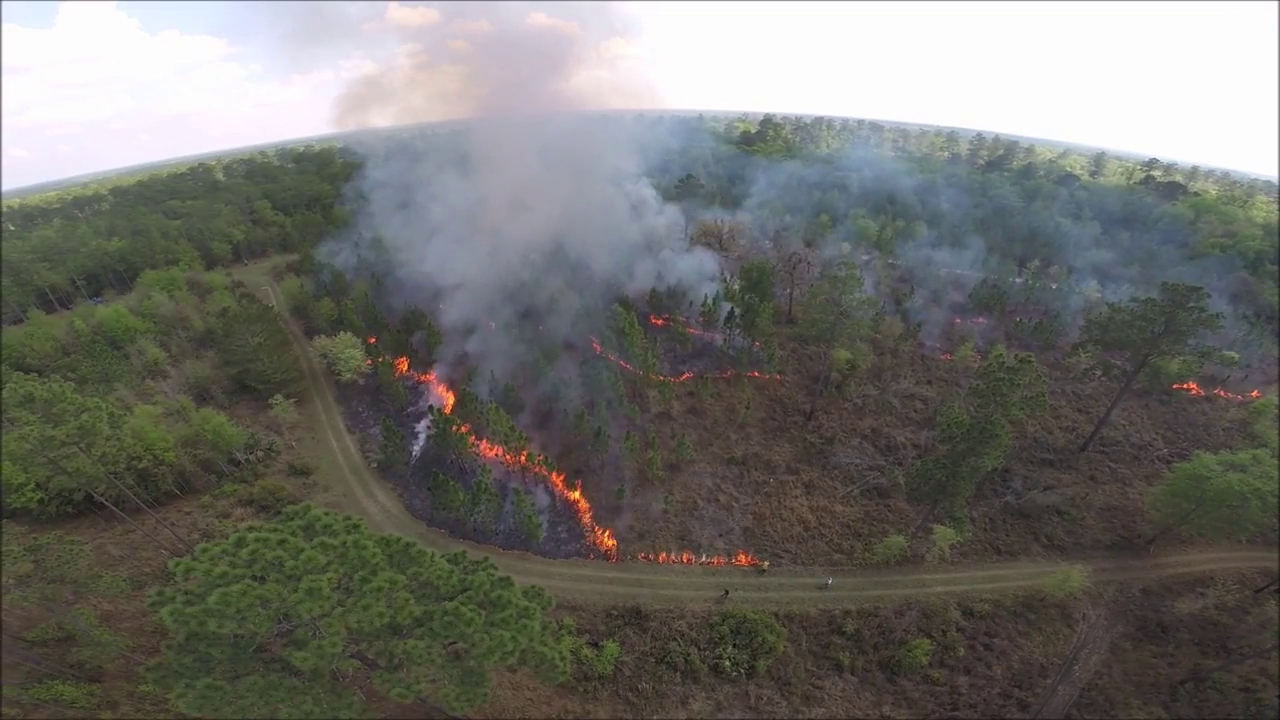forest_fire: (456, 424, 621, 561), (391, 355, 455, 413), (1171, 380, 1264, 401), (648, 315, 721, 341), (634, 550, 760, 565), (604, 353, 633, 369), (664, 373, 692, 381), (747, 372, 779, 378), (941, 353, 955, 360), (368, 337, 375, 343)
